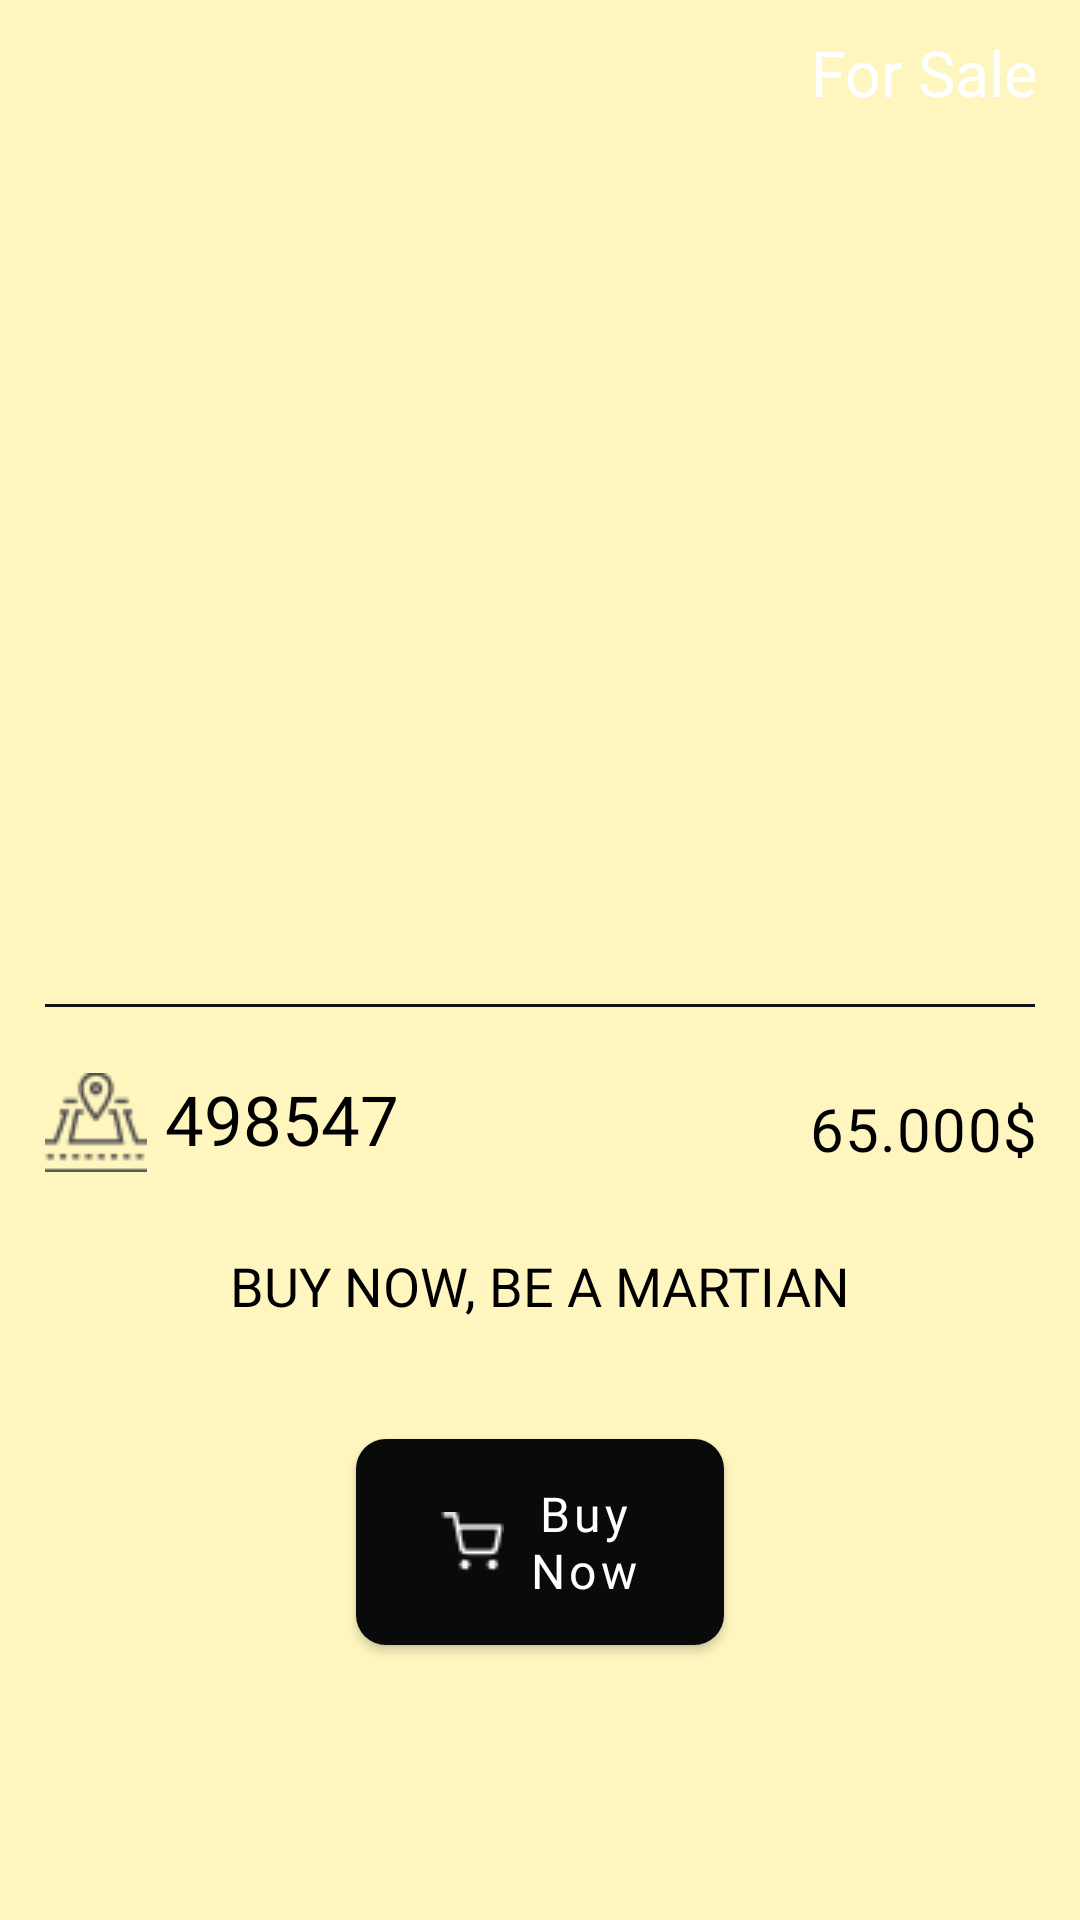

Screen size 1080px×1920px. Icon name, then its box in pixels as [x1=x1, y1=y1, x2=x2, y2=y2]:
plot: [x1=45, y1=1073, x2=147, y2=1172]
